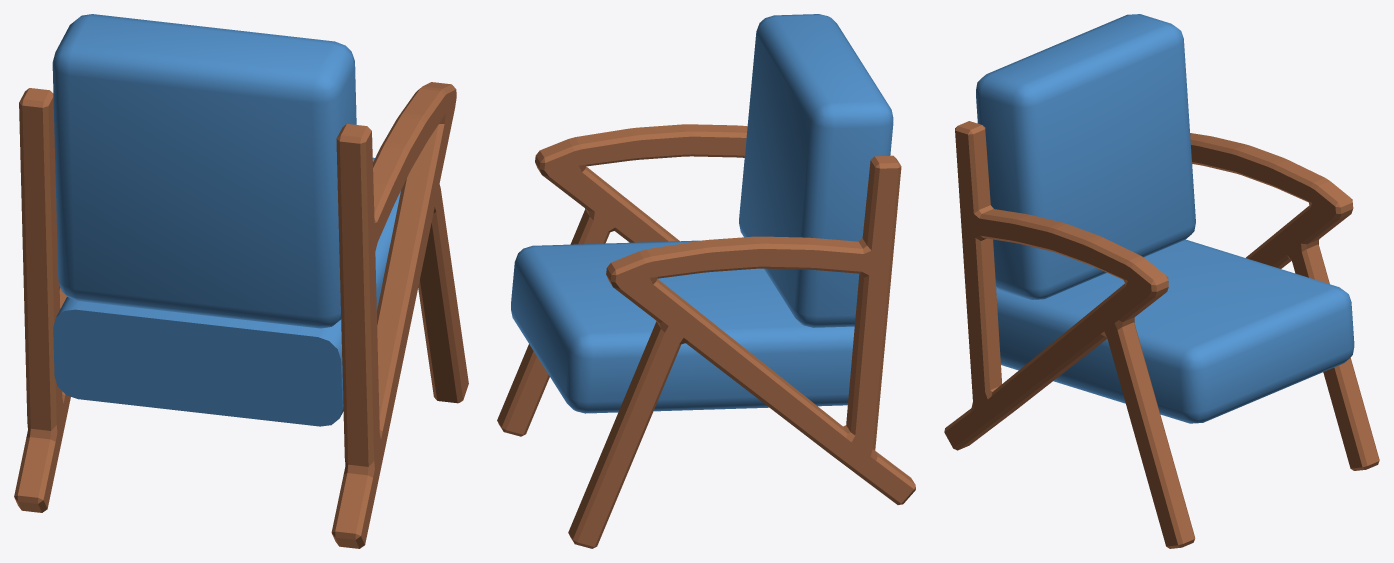
File: Chair.fbx
The picture shows the model from 3 angles, left to right: view 1: azimuth 30°, elevation 25°; view 2: azimuth 150°, elevation 25°; view 3: azimuth 270°, elevation 25°; orthographic projection. The views are drawn at different scales.
Visible parts, largest first — view 1: Couch 2.001, Couch 2.002, Couch 2.003; view 2: Couch 2.001, Couch 2.003, Couch 2.002; view 3: Couch 2.001, Couch 2.002, Couch 2.003.
Part boxes in pixels (x1,y1,x2,y2): Couch 2.001: (52, 14, 400, 426); Couch 2.002: (331, 82, 468, 548); Couch 2.003: (14, 88, 70, 512); Couch 2.001: (511, 14, 893, 413); Couch 2.003: (568, 155, 915, 548); Couch 2.002: (497, 124, 747, 436); Couch 2.001: (976, 14, 1354, 423); Couch 2.002: (944, 121, 1195, 548); Couch 2.003: (1190, 133, 1379, 470).
Bounding box in the file's own units: 58.47 × 56.36 × 58.47.
